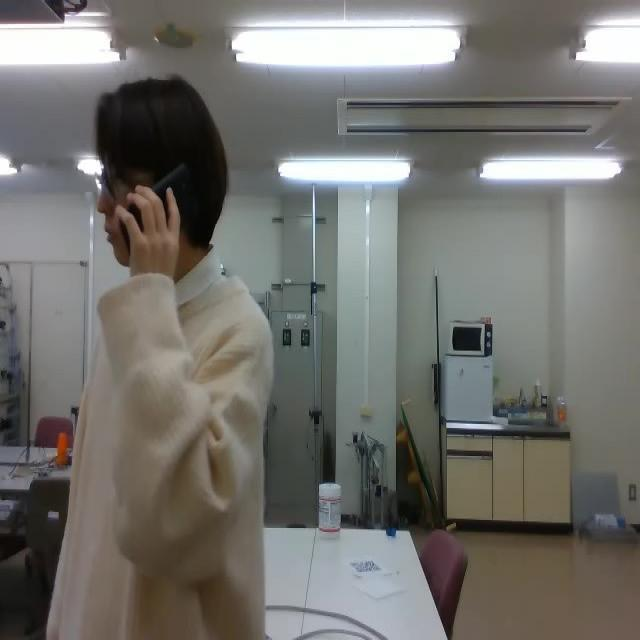Phone: (117, 161, 200, 259)
